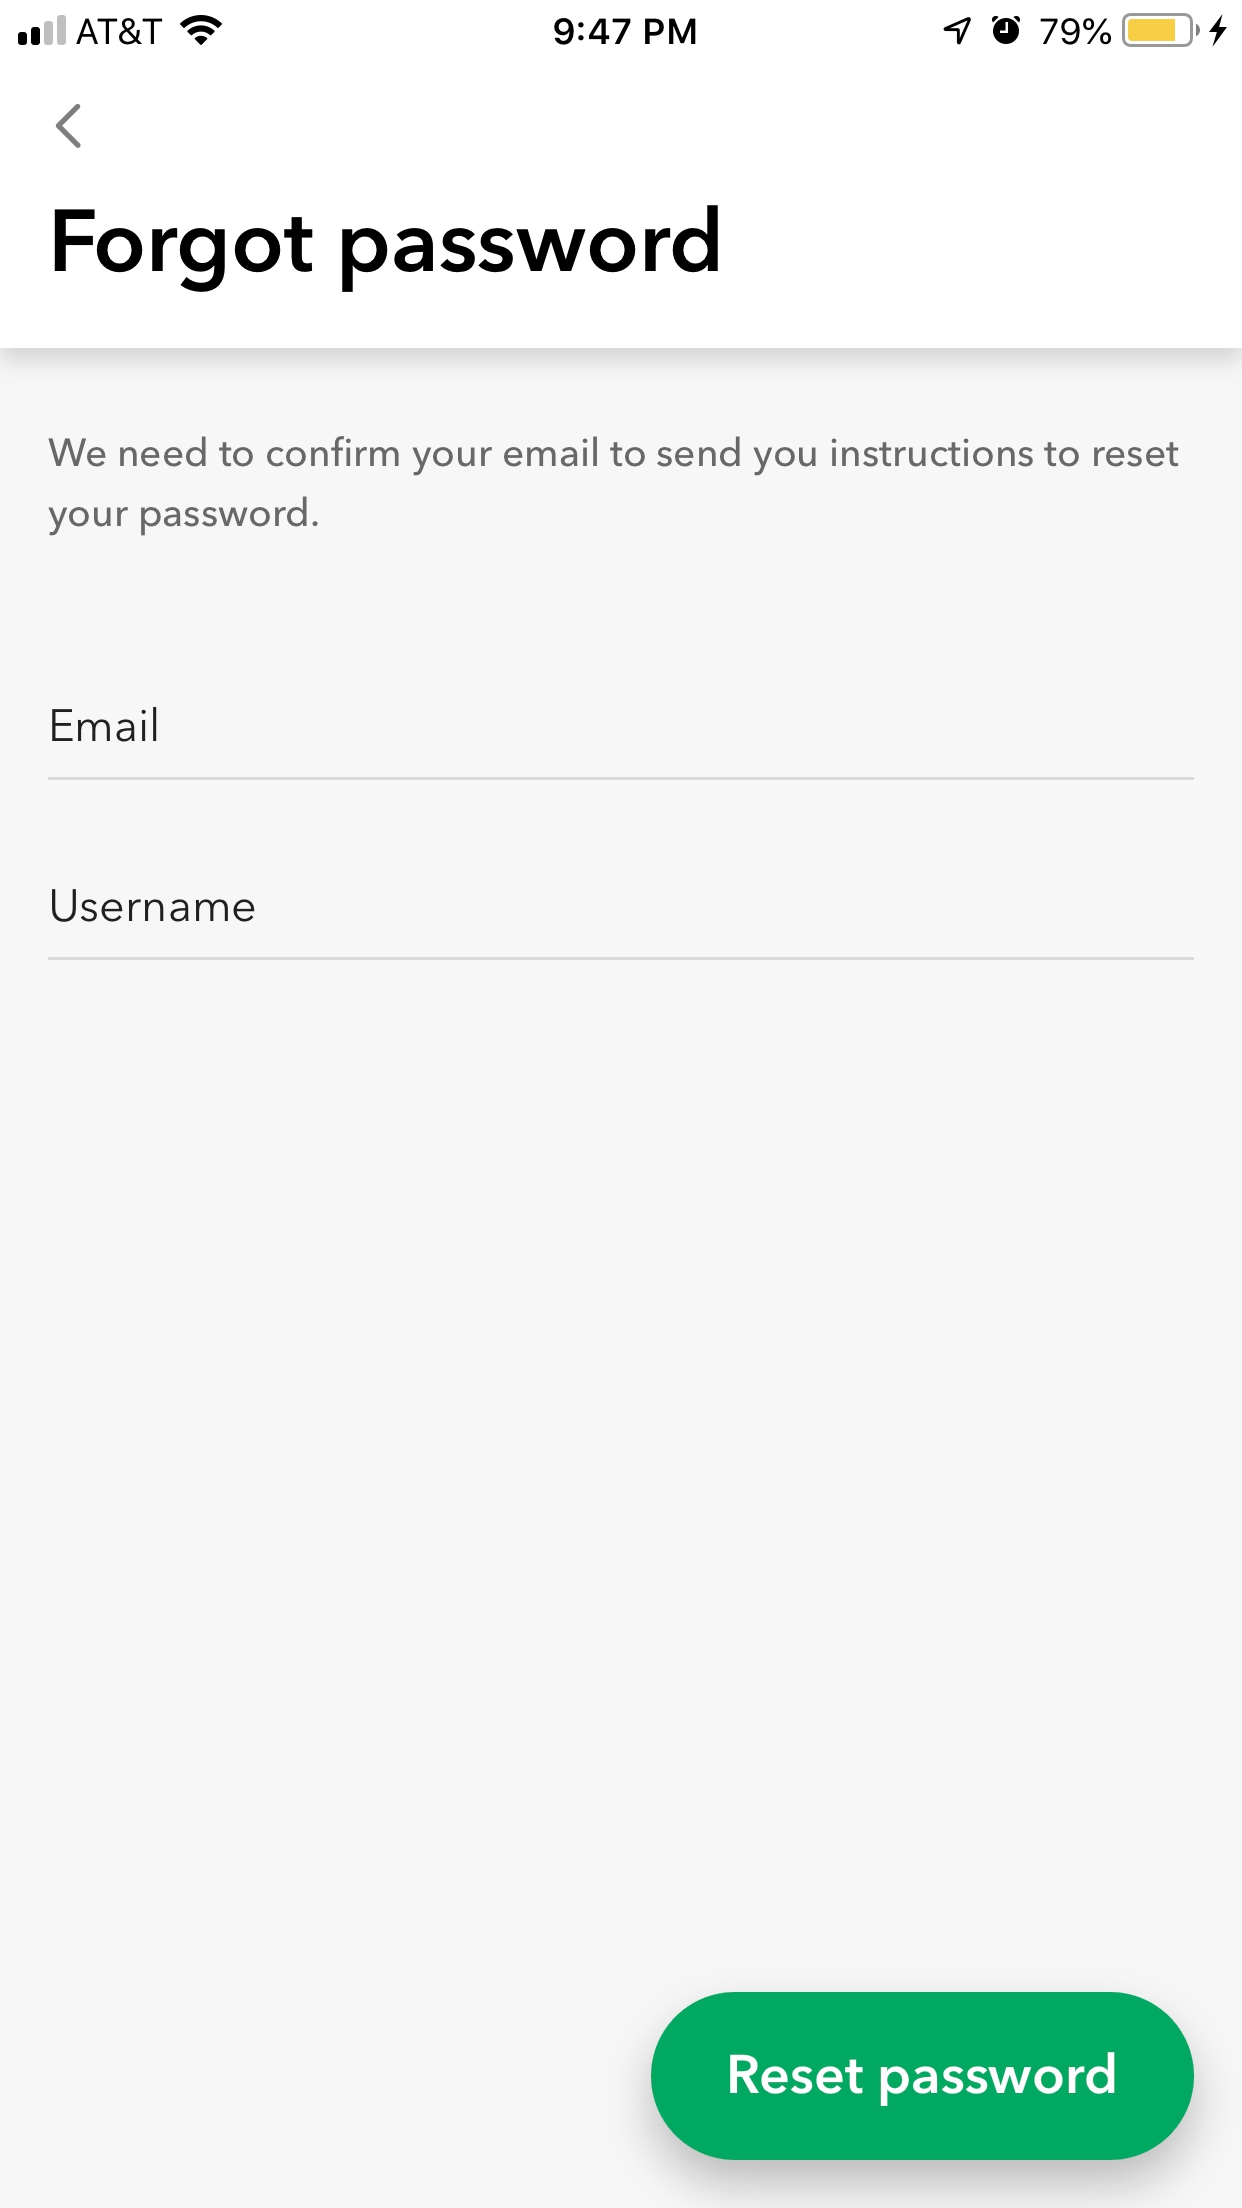EditText: (49, 707, 1195, 783), (49, 889, 1195, 961)
Icon: (56, 105, 82, 150)
Text: (49, 437, 1180, 538), (55, 205, 719, 293), (52, 889, 255, 924), (52, 707, 158, 743)
TextButton: (651, 1993, 1195, 2161)
UpperTaskBar: (2, 2, 1242, 49)
